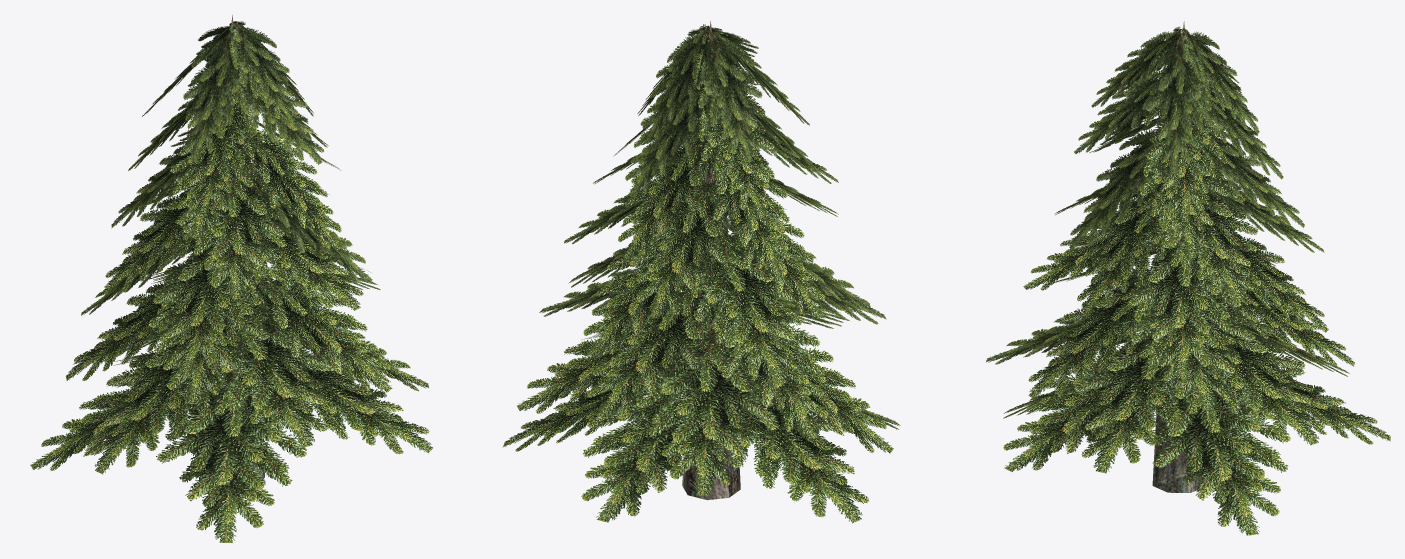
File: fp_spruce_2.glb
The picture shows the model from 3 angles, left to right: view 1: azimuth 30°, elevation 25°; view 2: azimuth 150°, elevation 25°; view 3: azimuth 270°, elevation 25°; orthographic projection.
Parts seen in each view (by area): view 1: _MeshInstance3D_41; view 2: _MeshInstance3D_41, _MeshInstance3D_40; view 3: _MeshInstance3D_41, _MeshInstance3D_40.
Part boxes in pixels (x1,y1,x2,y2): _MeshInstance3D_41: [30, 21, 432, 542]; _MeshInstance3D_41: [502, 24, 900, 523]; _MeshInstance3D_40: [682, 21, 740, 500]; _MeshInstance3D_41: [986, 26, 1390, 535]; _MeshInstance3D_40: [1152, 21, 1203, 492].
Size of the model in its own units: 3.46 by 3.97 by 3.33.
2 materials, 2 textured.
